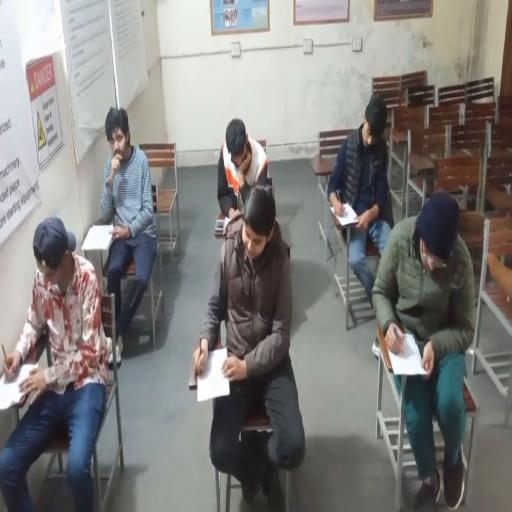paper: (388, 331, 429, 376), (0, 362, 38, 410), (197, 346, 230, 401), (82, 224, 116, 252), (330, 202, 358, 226), (214, 220, 228, 237)
